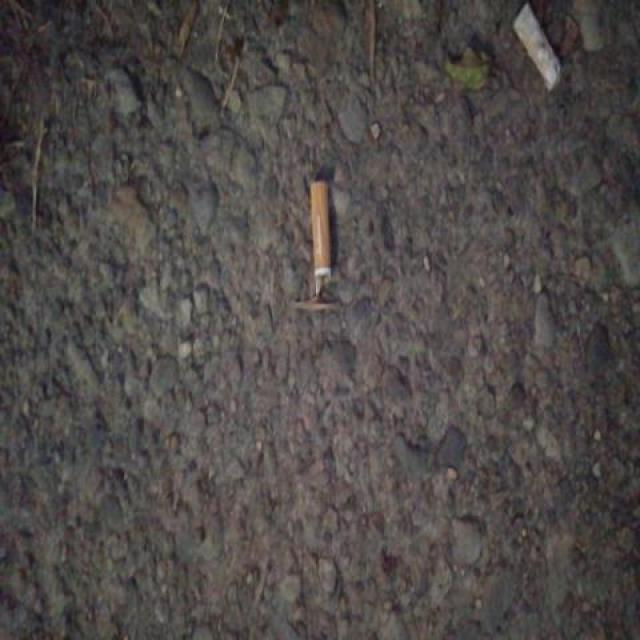non-organic waste: (502, 0, 565, 93), (302, 174, 338, 302)
